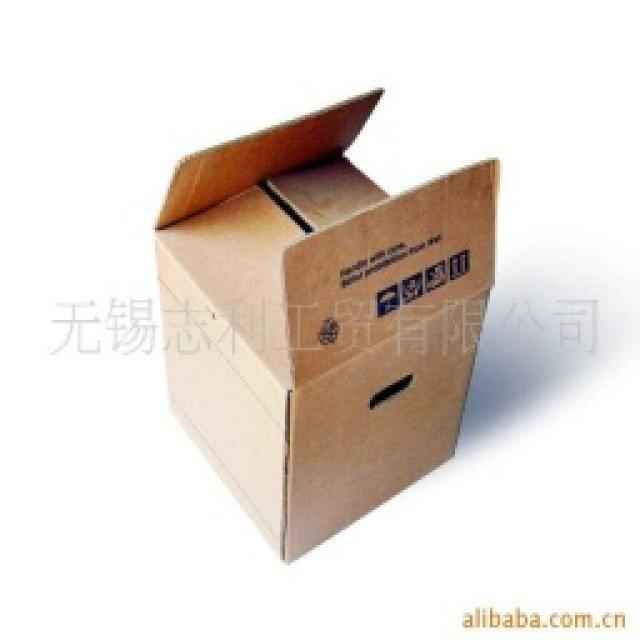box: (131, 109, 502, 566)
